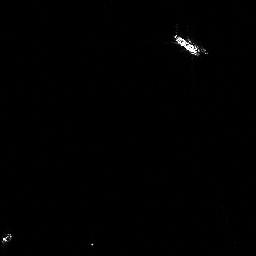ship: (175, 32, 199, 55)
